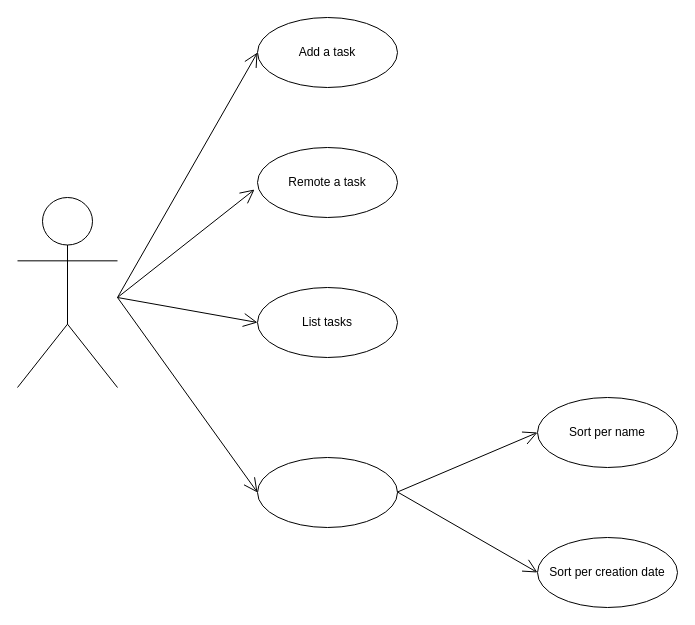
This 695x625 diagram has some shape labels left out. The shapes that lost their labels are listed below. From the top down, each one's centre as x and y in pixels, then its label:
(67,292): Collaborator
(327,492): Sort tasks
